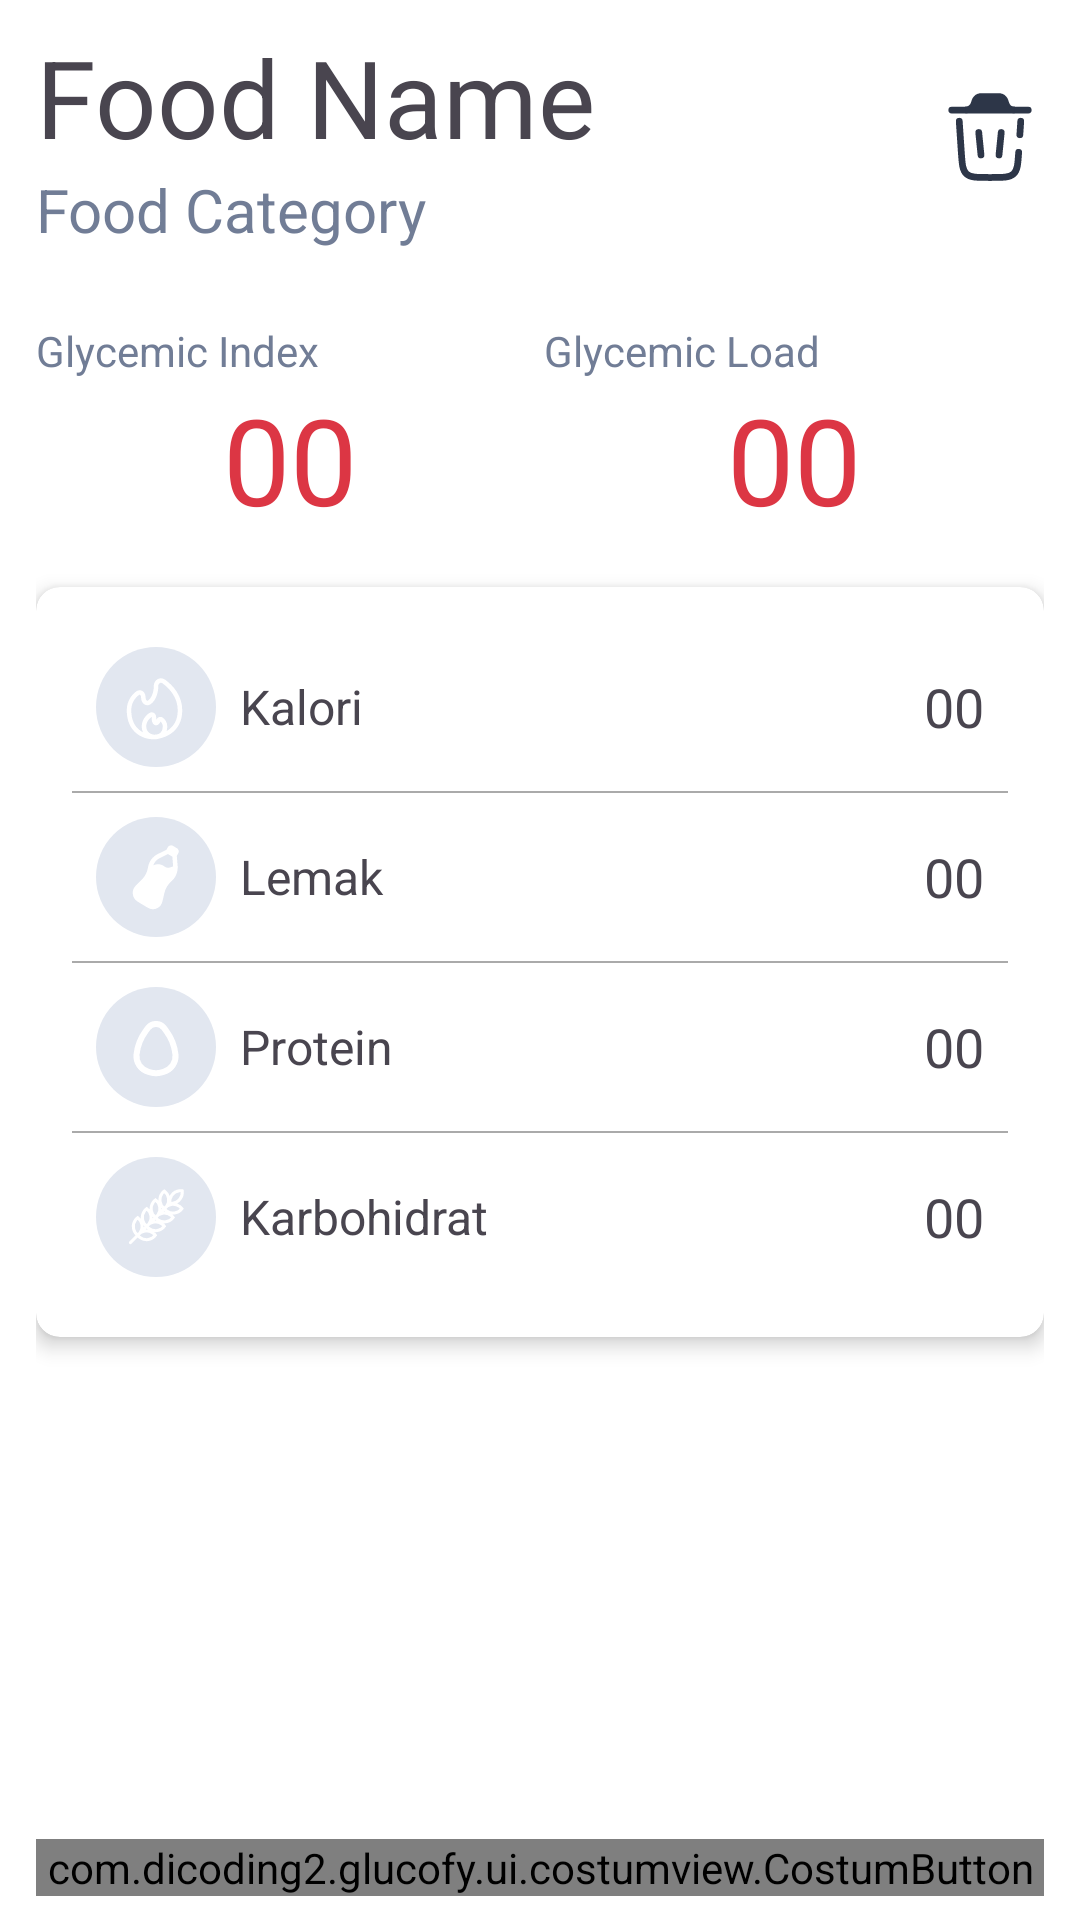

Named icons in this screenshot (1080 × 1920) and their centers, (x,y):
calories: (156,707)
carbs: (156,1217)
fats: (156,877)
trash: (990,137)
